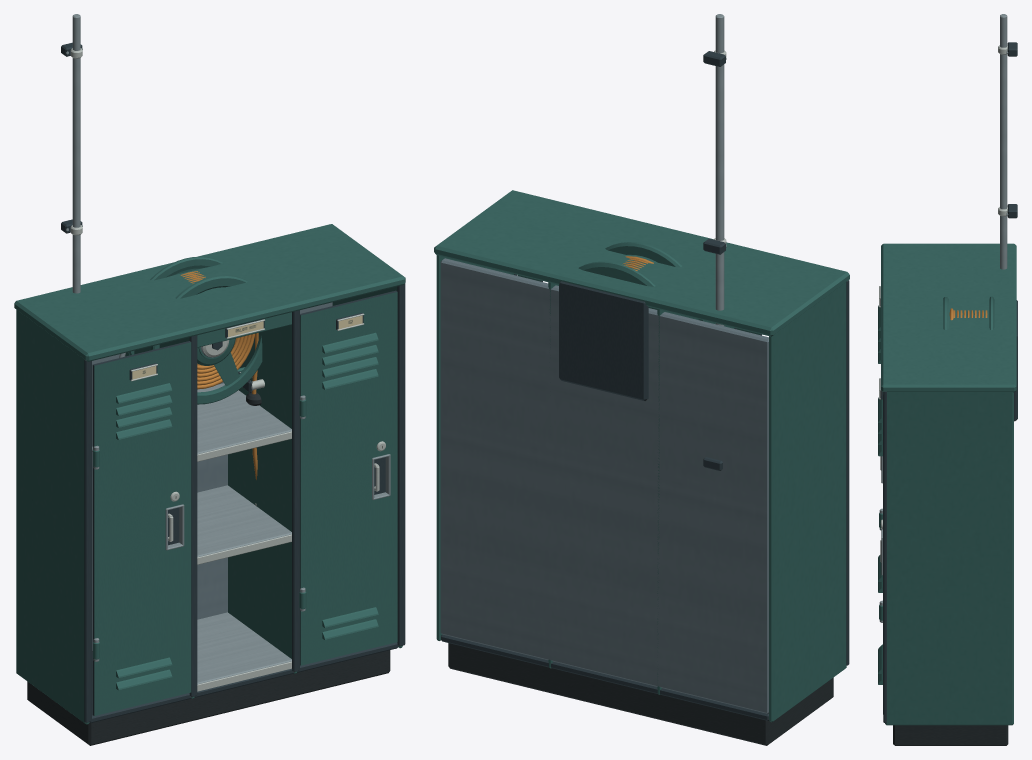
Rendered from workshop_room_fittings.glb.
The picture shows the model from 3 angles, left to right: view 1: azimuth 30°, elevation 25°; view 2: azimuth 150°, elevation 25°; view 3: azimuth 270°, elevation 25°; orthographic projection. The views are drawn at different scales.
Visible parts, largest first — view 1: LockerBank, WindingDrum; view 2: LockerBank, WindingDrum; view 3: LockerBank, WindingDrum.
Part boxes in pixels (box(x1,y1,x2,y2)): LockerBank: box(14, 224, 405, 745); WindingDrum: box(61, 14, 264, 506); LockerBank: box(434, 190, 849, 745); WindingDrum: box(559, 14, 726, 470); LockerBank: box(878, 243, 1016, 745); WindingDrum: box(943, 14, 1017, 421).
Bounding box in the file's own units: 1.61 × 3.25 × 0.666.
1 material, 1 textured.
